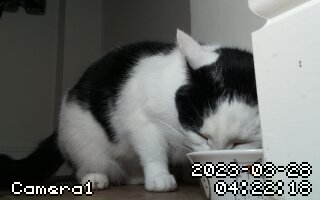bad: (48, 31, 265, 185)
